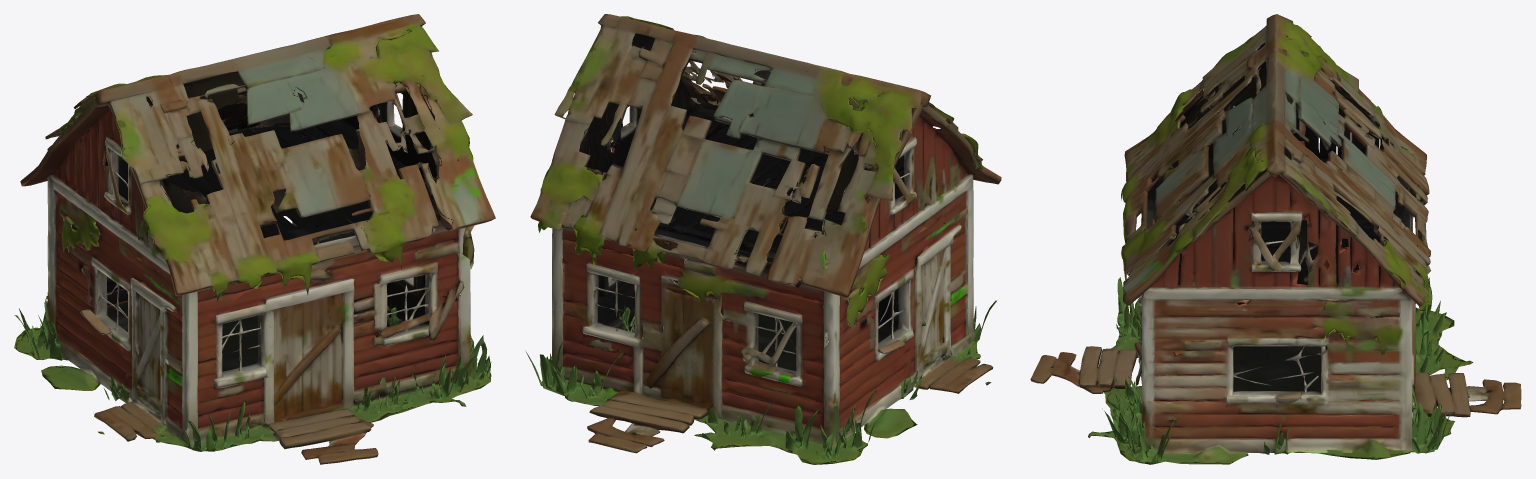
File: Protagonist_Barn.glb
3 renders of one model, left to right at view 1: azimuth 30°, elevation 25°; view 2: azimuth 150°, elevation 25°; view 3: azimuth 270°, elevation 25°, orthographic. The views are drawn at different scales.
Visible parts, largest first — view 1: world; view 2: world; view 3: world.
Part boxes in pixels (x1,y1,x2,y2): world: (14, 14, 495, 464); world: (525, 14, 1001, 464); world: (1030, 14, 1521, 464).
Bounding box in the file's own units: 0.8265 × 0.6892 × 1.
1 material, 1 textured.
